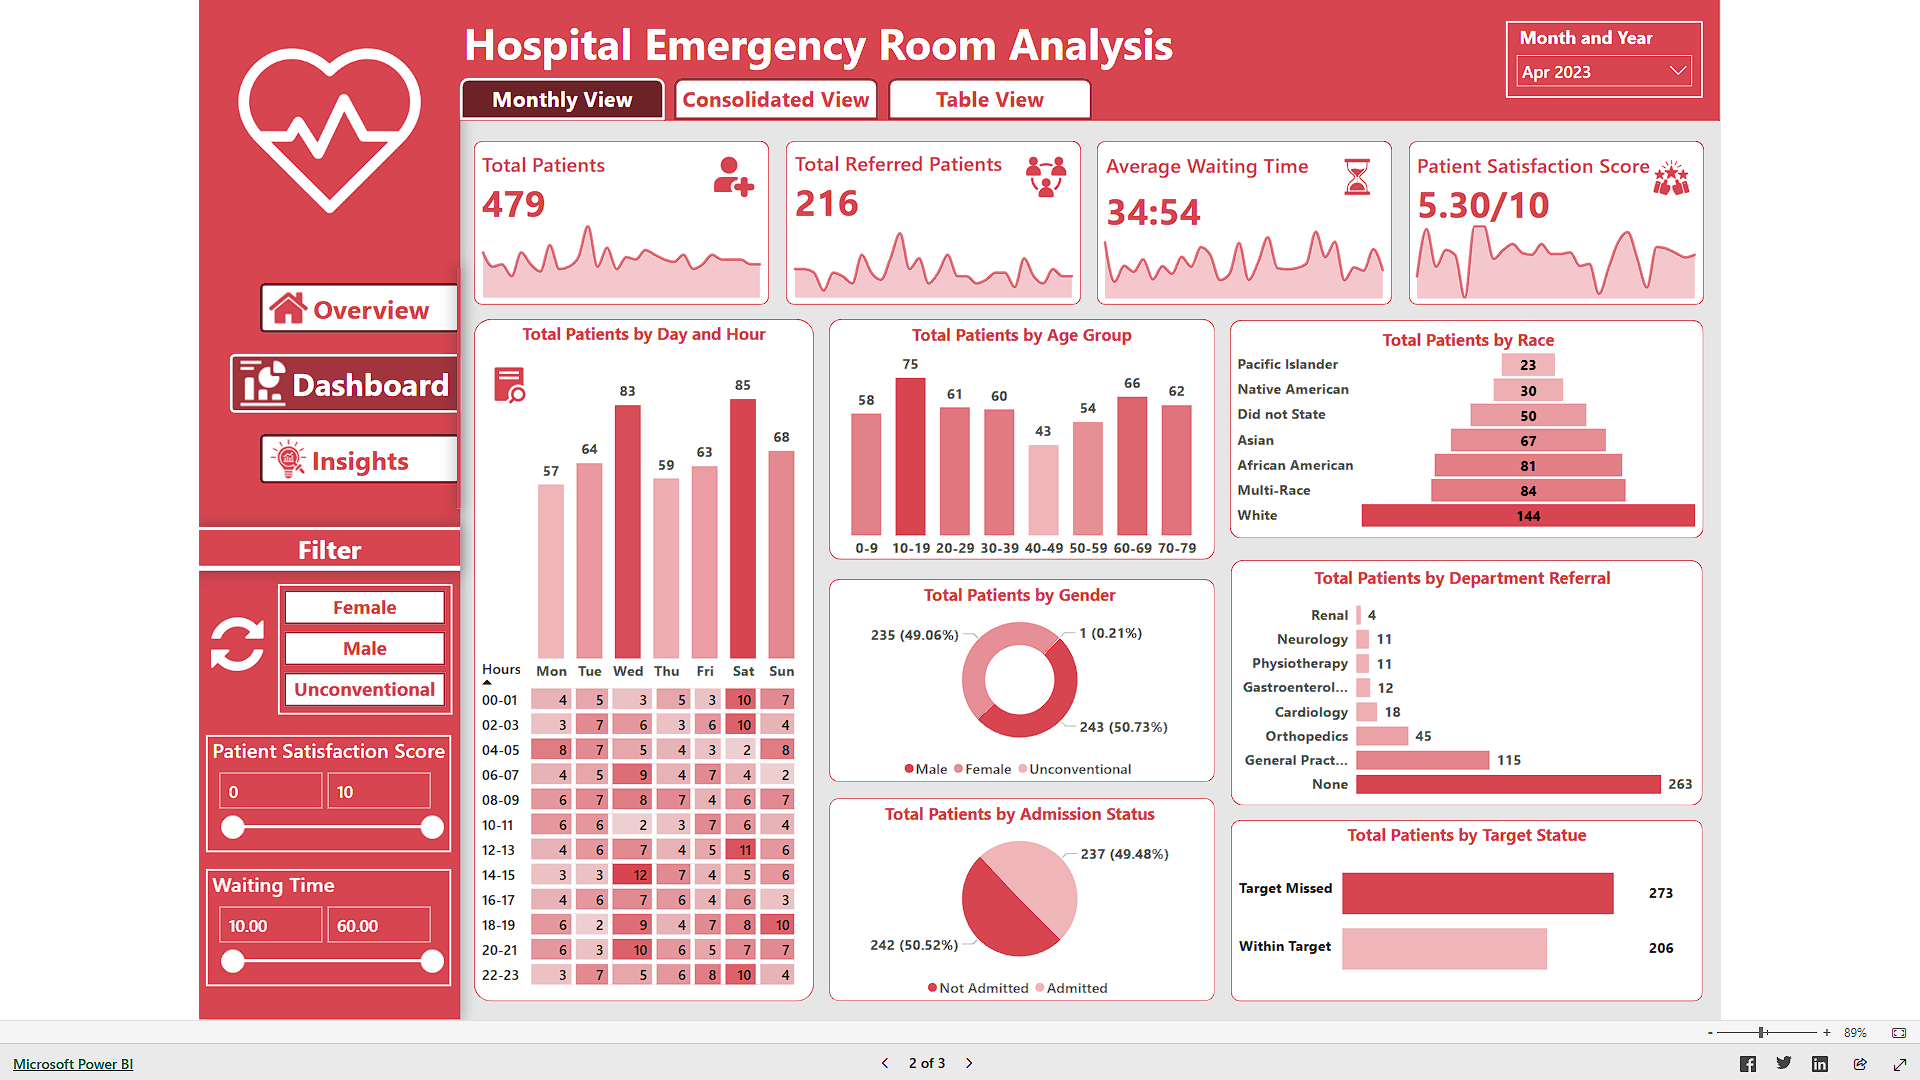

The dashboard page shown, as its layout file describes it:
{"tool":"powerbi","page":{"name":"Table View","canvas":[1700,1140],"ordinal":6},"visuals":[{"type":"shape","box":[0,0,292.2,1139.5],"z":0},{"type":"textbox","title":"Hospital Emergency Room Analysis","box":[290.8,14.7,938.4,91],"z":0,"group":"g1"},{"type":"actionButton","box":[34.3,396.3,258.6,65.7],"z":0,"group":"g2"},{"type":"textbox","title":"Filter","box":[0,592.7,292,40.3],"z":0,"group":"g4"},{"type":"shape","box":[292,0,1408,135],"z":1000},{"type":"actionButton","box":[68.2,485.2,224,55.7],"z":1000,"group":"g2"},{"type":"image","box":[0,38.6,291.4,214.3],"z":2000},{"type":"actionButton","box":[68.2,316.7,224,55.7],"z":2000,"group":"g2"},{"type":"pageNavigator","box":[292.2,87,709,47],"z":3000},{"type":"shape","box":[288,300,4.2,268.5],"z":3000,"group":"g2"},{"type":"tableEx","fields":{"Values":["Hospital ER.Patient Id","Hospital ER.Patient Name","Hospital ER.Patient Gender","Hospital ER.Patient Age","Hospital ER.Patient Race","Hospital ER.Patient Admission Date","Hospital ER.Patient Admission Time","Hospital ER.Waiting Time","Hospital ER.Department Referral","Hospital ER.Admission Status"]},"box":[292.2,133.6,1408,1007.3],"z":4000},{"type":"group","id":"g1","title":"Group 1","box":[290.8,14.7,938.4,91],"z":5000},{"type":"group","id":"g2","title":"Group 2","box":[34.3,300,258.6,268.5],"z":6000},{"type":"group","id":"g3","title":"Group 6","box":[0,588.9,292.2,513.4],"z":7000},{"type":"textFilter25A4896A83E0487089E2B90C9AE57C8A","title":"Search by Patient ID","fields":{"field":["Hospital ER.Patient Id"]},"box":[1384.3,20.9,299.1,94.6],"z":8000},{"type":"slicer","title":"Patient Satisfaction Score","fields":{"Values":["Hospital ER.Patient Satisfaction Score"]},"box":[8.1,821,274.5,131.2],"z":48000,"group":"g3"},{"type":"slicer","title":"Waiting Time","fields":{"Values":["Hospital ER.Patient Waittime"]},"box":[8.1,971.1,274.5,131.2],"z":49000,"group":"g3"},{"type":"advancedSlicerVisual","title":"Patient Satisfaction Score","fields":{"Values":["Hospital ER.Patient Gender"]},"box":[87.9,653,194.7,146],"z":50000,"group":"g3"},{"type":"image","box":[8.3,683.1,69.6,73.7],"z":51000,"group":"g3"},{"type":"shape","box":[0,588.9,292.2,48.7],"z":52001,"group":"g3"},{"type":"group","id":"g4","title":"Group 1","box":[0,592.7,292,40.3],"z":52501,"group":"g3"}]}

Visuals, with their boxes on the page's 1700x1140 design canvas (x1, y1, x2, y2). These are canvas units, not pixel positions in the 1920x1080 screenshot, which may show the page scaled, cropped or inside an application window:
shape: [0,0,292,1140]
"Hospital Emergency Room Analysis" textbox: [291,15,1229,106]
actionButton: [34,396,293,462]
"Filter" textbox: [0,593,292,633]
shape: [292,0,1700,135]
actionButton: [68,485,292,541]
image: [0,39,291,253]
actionButton: [68,317,292,372]
pageNavigator: [292,87,1001,134]
shape: [288,300,292,568]
tableEx - Hospital ER.Patient Id x Hospital ER.Patient Name: [292,134,1700,1141]
"Group 1" group: [291,15,1229,106]
"Group 2" group: [34,300,293,568]
"Group 6" group: [0,589,292,1102]
"Search by Patient ID" textFilter25A4896A83E0487089E2B90C9AE57C8A: [1384,21,1683,116]
"Patient Satisfaction Score" slicer: [8,821,283,952]
"Waiting Time" slicer: [8,971,283,1102]
"Patient Satisfaction Score" advancedSlicerVisual: [88,653,283,799]
image: [8,683,78,757]
shape: [0,589,292,638]
"Group 1" group: [0,593,292,633]
